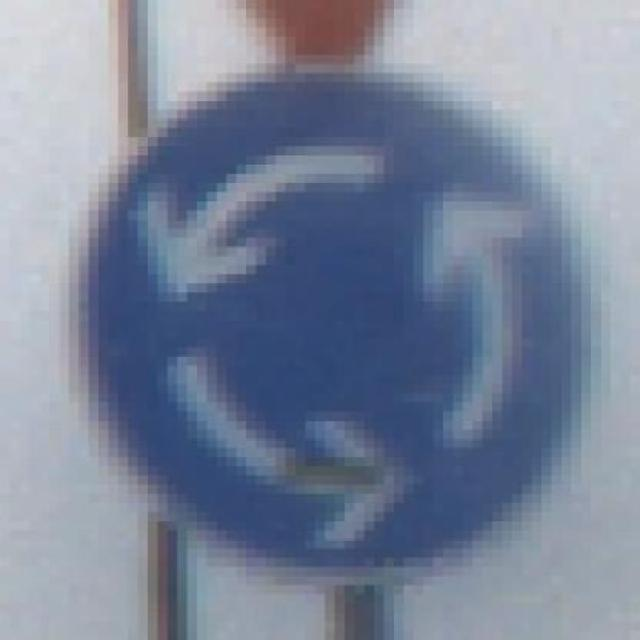Round-About: (10, 45, 630, 613)
